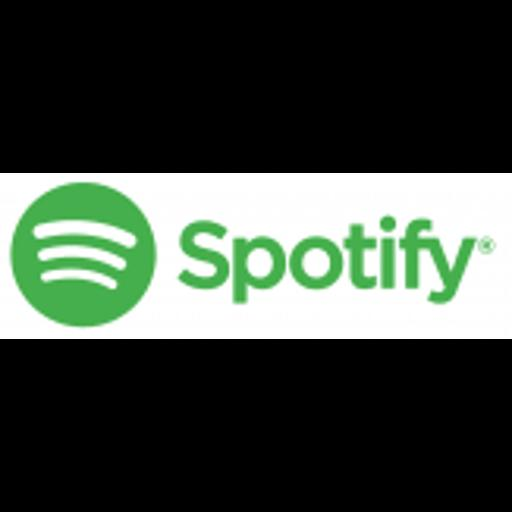Spotify: (0, 173, 512, 339)
